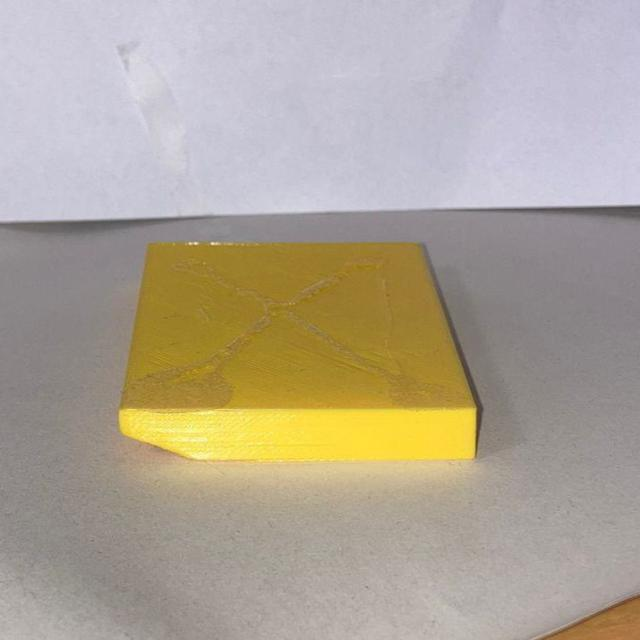Warping: (116, 422, 230, 462)
